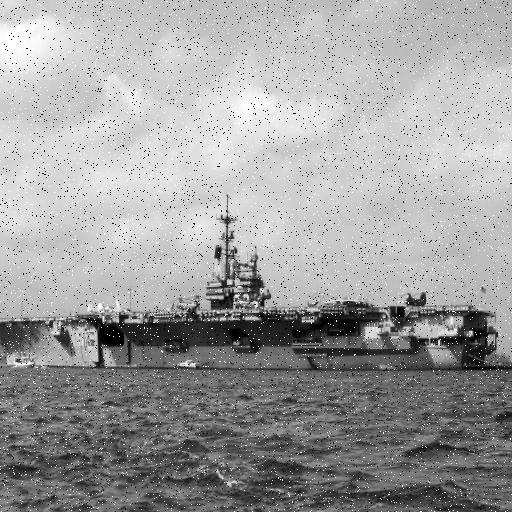Portanaves: (1, 169, 501, 382)
